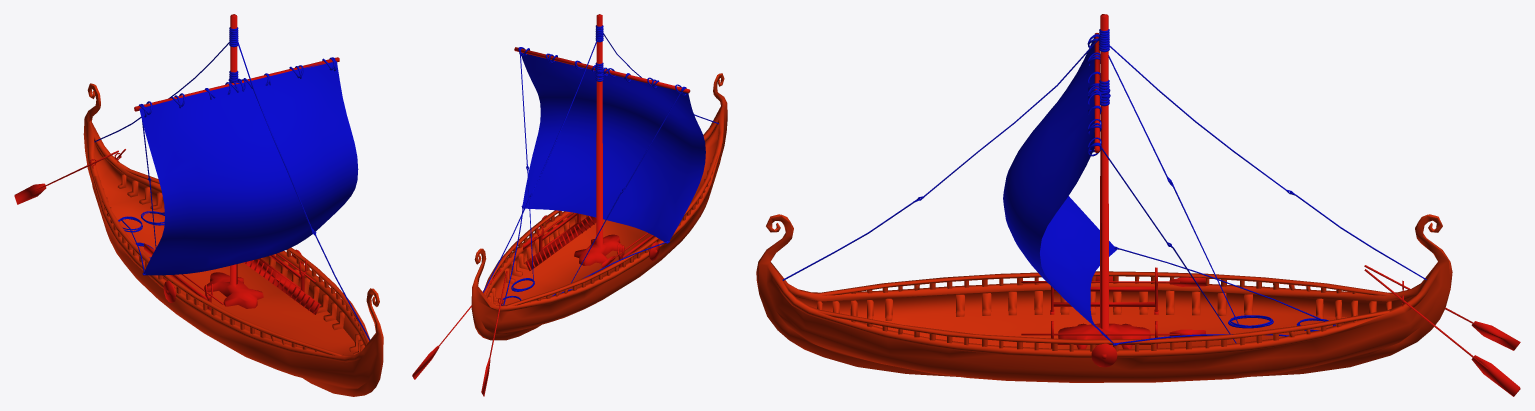
Rendered from ShipV_LOW.obj.
The picture shows the model from 3 angles, left to right: view 1: azimuth 30°, elevation 25°; view 2: azimuth 150°, elevation 25°; view 3: azimuth 270°, elevation 25°; orthographic projection. The views are drawn at different scales.
Visible parts, largest first — view 1: Plane, base1_Cube, base2_Cube.005; view 2: Plane, base1_Cube, base2_Cube.005; view 3: base1_Cube, Plane, base2_Cube.005.
Part boxes in pixels (x1,y1,x2,y2): Plane: (94,27,370,340); base1_Cube: (83,83,383,396); base2_Cube.005: (14,14,339,314); Plane: (483,25,718,305); base1_Cube: (471,73,727,340); base2_Cube.005: (412,14,690,396); base1_Cube: (756,214,1452,382); Plane: (782,29,1426,345); base2_Cube.005: (1021,14,1520,396).
Size of the model in its own units: 1.65 by 2.38 by 4.59.
